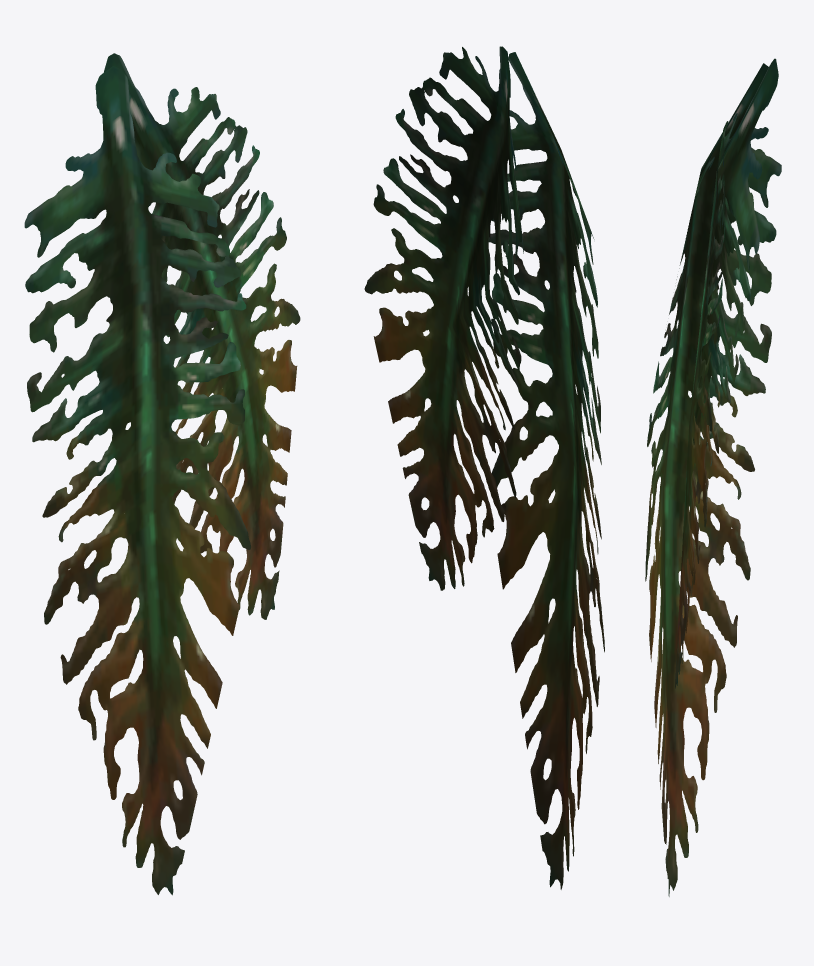
The model's file is stemple_fern_straight_02.fbx.
3 renders of one model, left to right at view 1: azimuth 30°, elevation 25°; view 2: azimuth 150°, elevation 25°; view 3: azimuth 270°, elevation 25°, orthographic. The views are drawn at different scales.
Visible parts, largest first — view 1: sunken_tileset/sunken_plants01_mat; view 2: sunken_tileset/sunken_plants01_mat; view 3: sunken_tileset/sunken_plants01_mat.
Boxes of the visible parts, x1,y1,x2,y2 form: sunken_tileset/sunken_plants01_mat: (24,53,300,895); sunken_tileset/sunken_plants01_mat: (364,46,604,889); sunken_tileset/sunken_plants01_mat: (645,58,781,896).
Size of the model in its own units: 1.35 by 4.35 by 0.6912.
